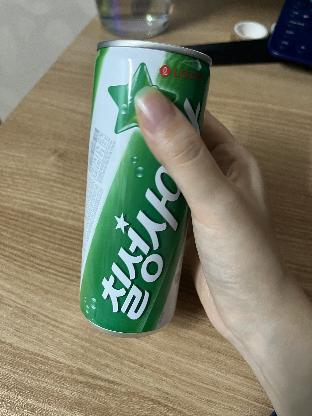Can: (76, 42, 214, 338)
